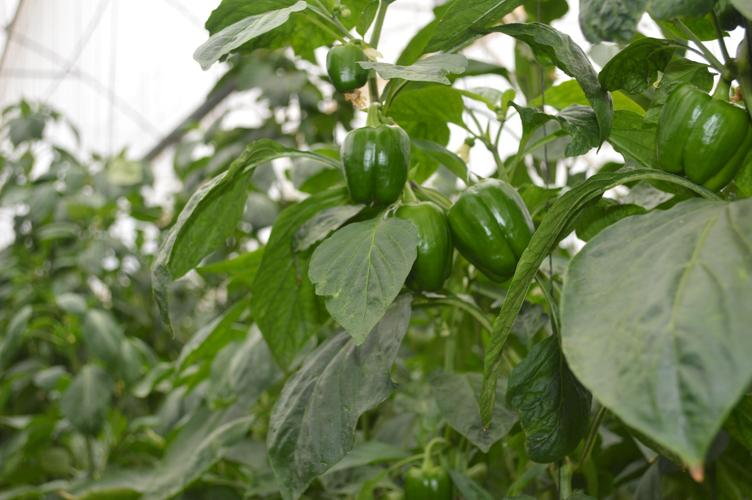BellPepper: (637, 76, 746, 214), (450, 169, 533, 289), (378, 202, 455, 302), (340, 121, 415, 208), (309, 32, 377, 108), (400, 462, 459, 500)
